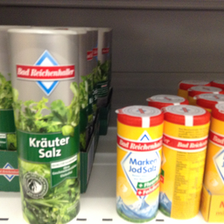spices: (10, 26, 80, 224), (116, 105, 164, 223), (163, 104, 210, 218)
